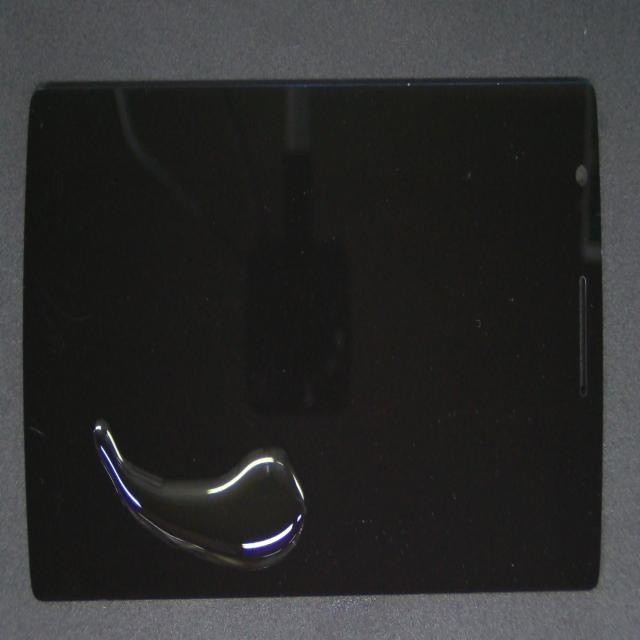oil: (198, 206, 360, 640)
